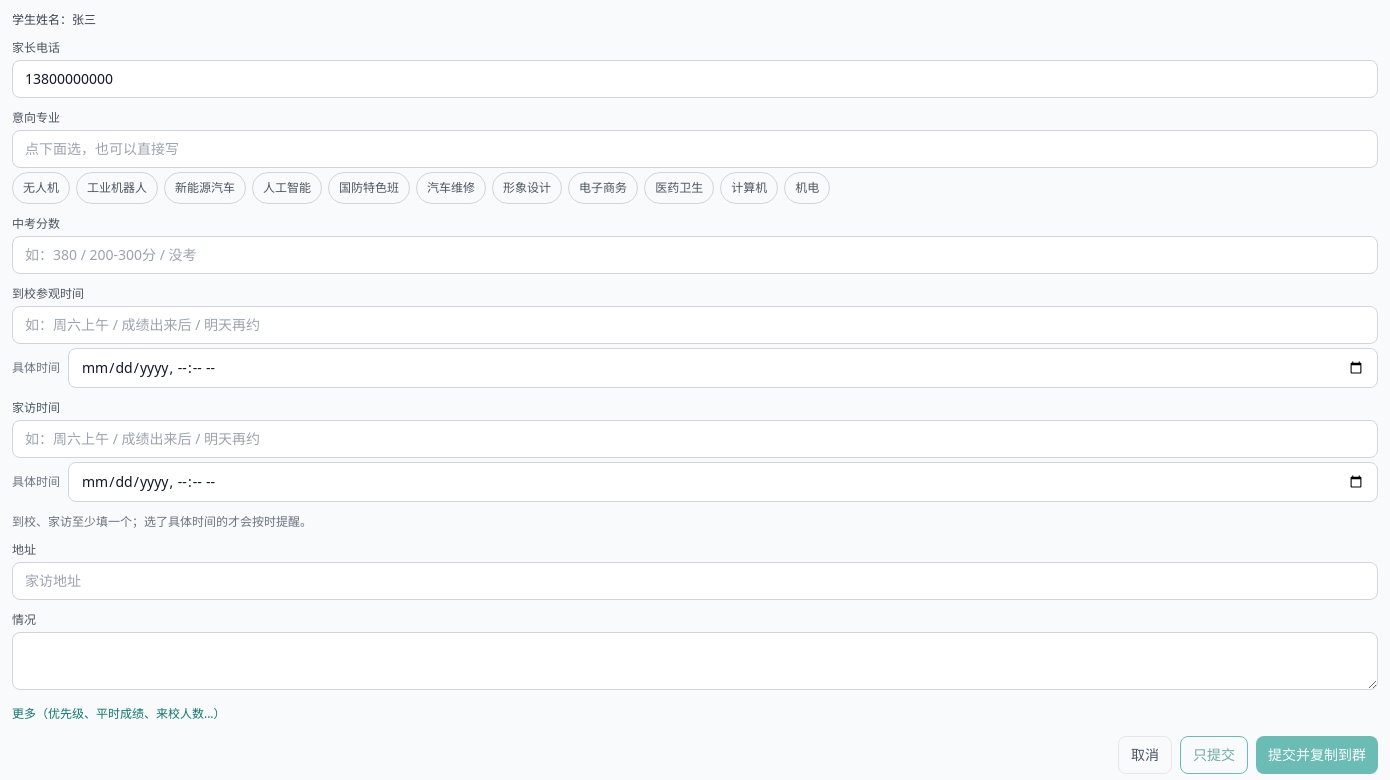
VisitReportForm › needs a home or campus visit time before it can be submitted
Expected: the button "只提交" is disabled, [1180,736,1248,774]
Expected: the button "提交并复制到群" is disabled, [1256,736,1378,774]
Type "明天再约" into the field labelled "家访时间" at (695, 439), box [12,420,1378,458]
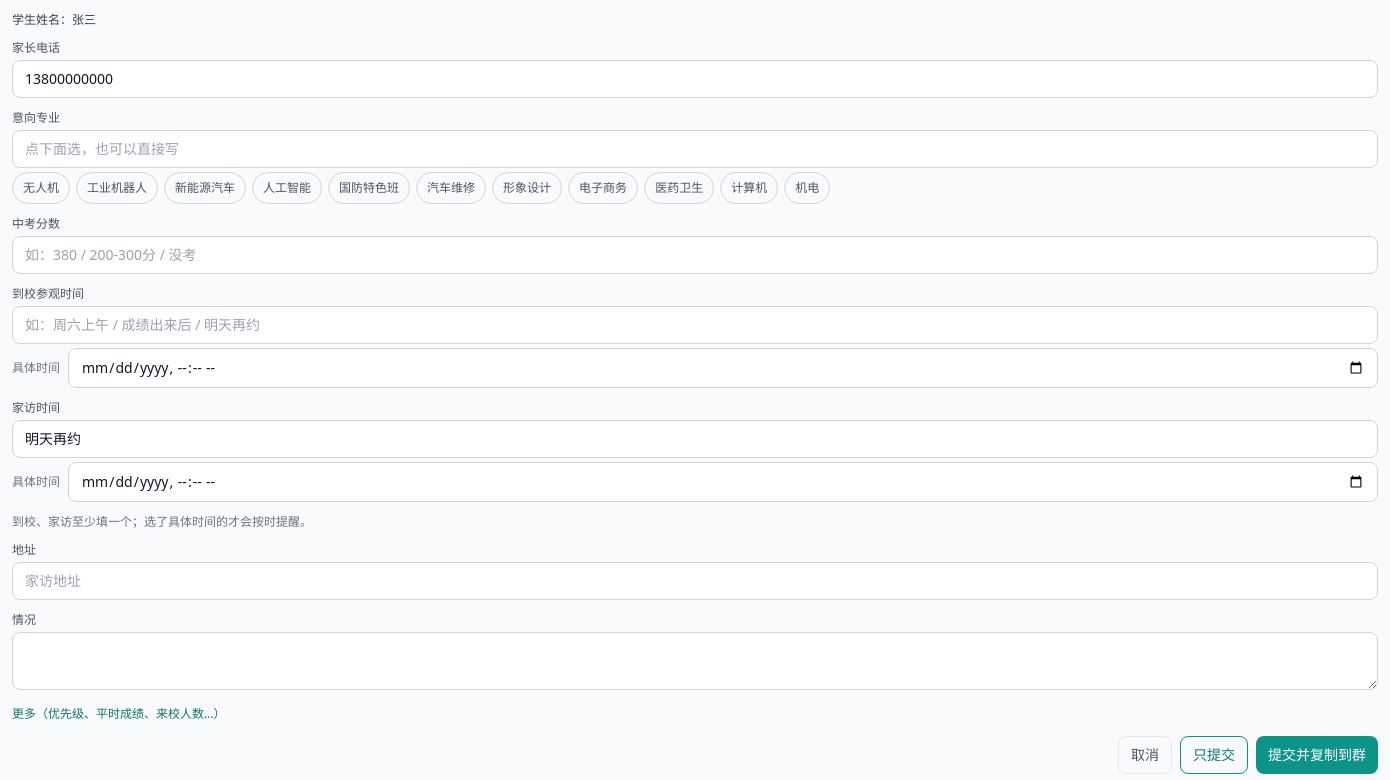
Now the button "只提交" is enabled, box [1180,736,1248,774]
